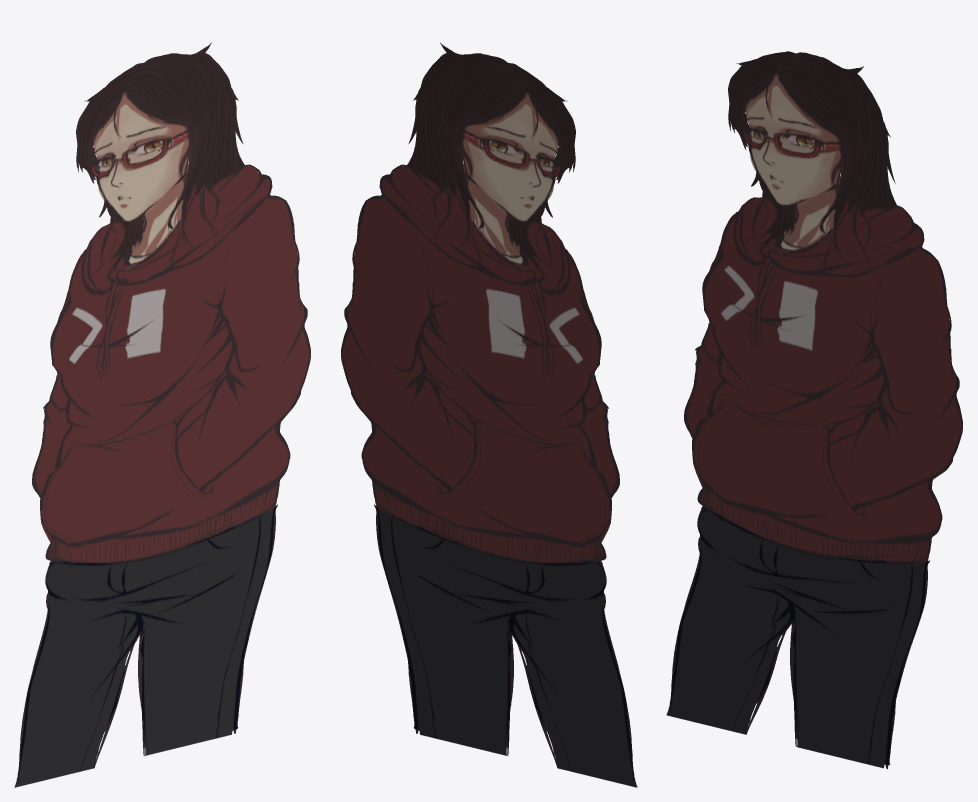
The model's file is Character.fbx.
3 renders of one model, left to right at view 1: azimuth 30°, elevation 25°; view 2: azimuth 150°, elevation 25°; view 3: azimuth 330°, elevation 25°, orthographic.
Visible parts, largest first — view 1: Plane; view 2: Plane; view 3: Plane.
Boxes of the visible parts, x1=… form: Plane: x1=14, y1=42, x2=310, y2=787; Plane: x1=341, y1=42, x2=637, y2=787; Plane: x1=666, y1=51, x2=962, y2=769.
Bounding box in the file's own units: 289 × 651 × 4.11e-05.
Materials: 1 (1 with a texture image).
